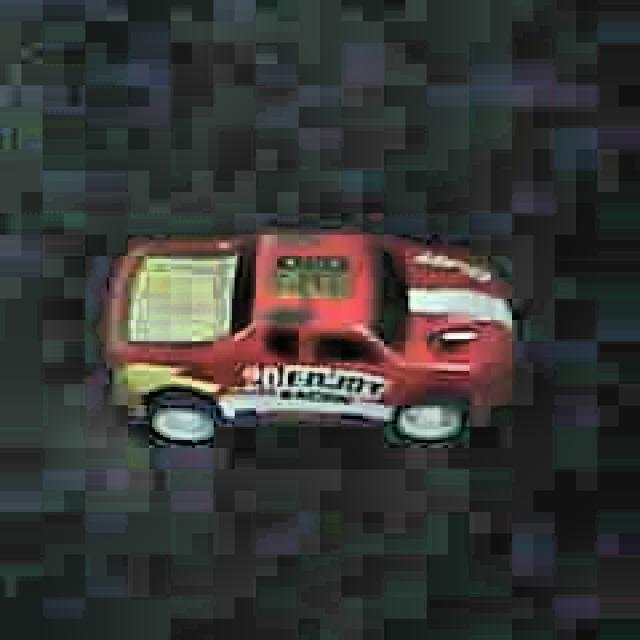car: (102, 224, 517, 462)
